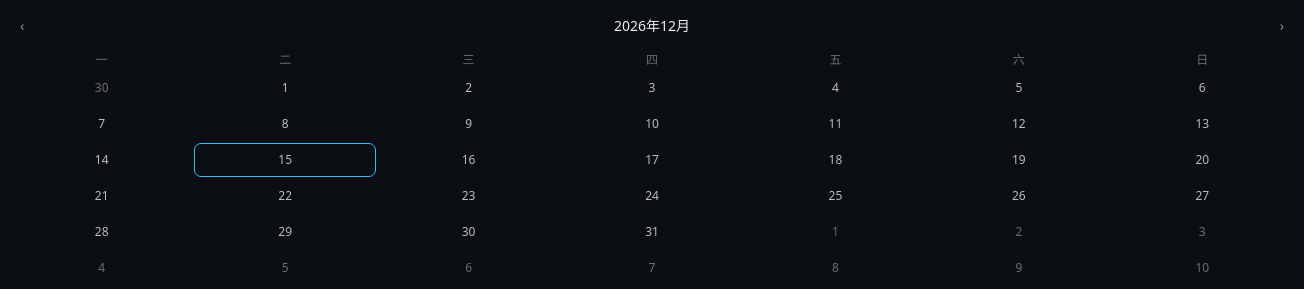
Test: ⚠️ 跨月翻页（12 月 → 次年 1 月）
Check: the text "2026年12月" is shown, box [614,16,690,36]
Click the button named "下个月": [1282, 26] box [1272,12,1292,40]
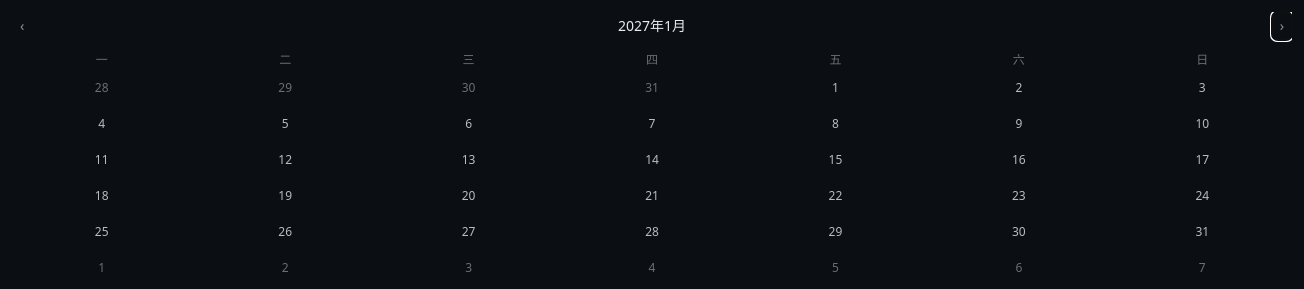
Check: the text "2027年1月" is shown, box [618,16,686,36]
Click the button named "上个月": [22, 26] box [12,12,32,40]
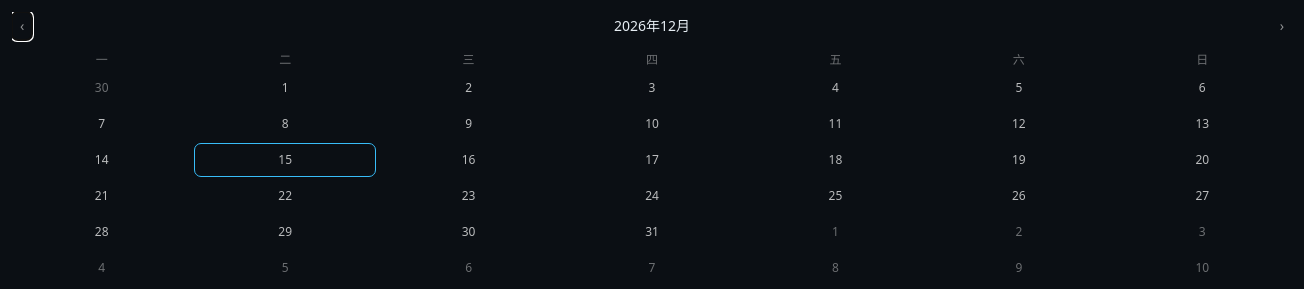
Check: the text "2026年12月" is shown, box [614,16,690,36]
